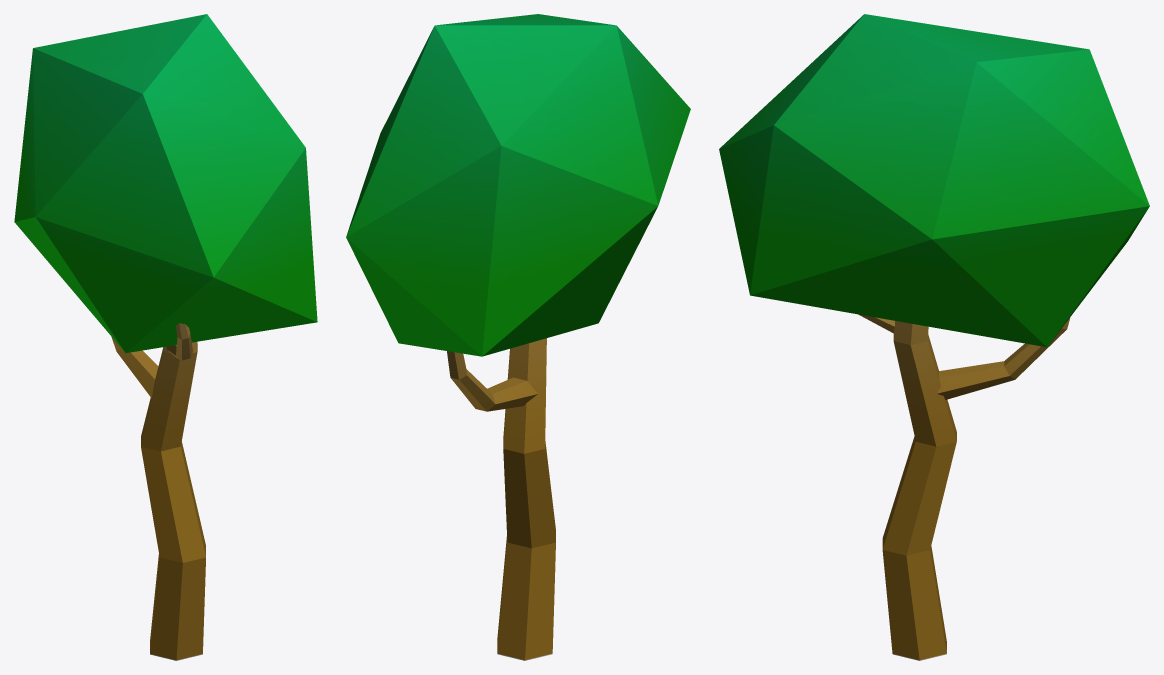
The model's file is Tree_02__1_.fbx.
3 views of the same model, side by side, from view 1: azimuth 30°, elevation 25°; view 2: azimuth 150°, elevation 25°; view 3: azimuth 270°, elevation 25° (orthographic). The views are drawn at different scales.
Visible parts, largest first — view 1: Tree_02__1_; view 2: Tree_02__1_; view 3: Tree_02__1_.
Boxes of the visible parts, left/top/right/bottom form: Tree_02__1_: left=14, top=14, right=317, bottom=660; Tree_02__1_: left=346, top=14, right=690, bottom=660; Tree_02__1_: left=719, top=14, right=1149, bottom=660.
Bounding box in the file's own units: 5403 × 11635 × 7393.
